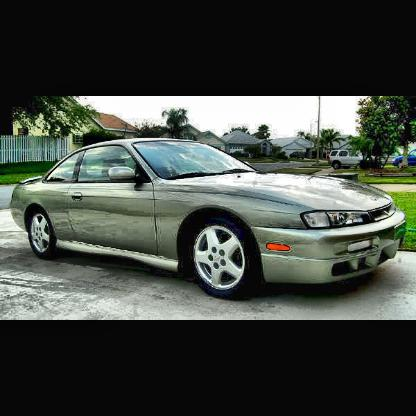Nissan 240SX Coupe 1998: (10, 136, 411, 305)
